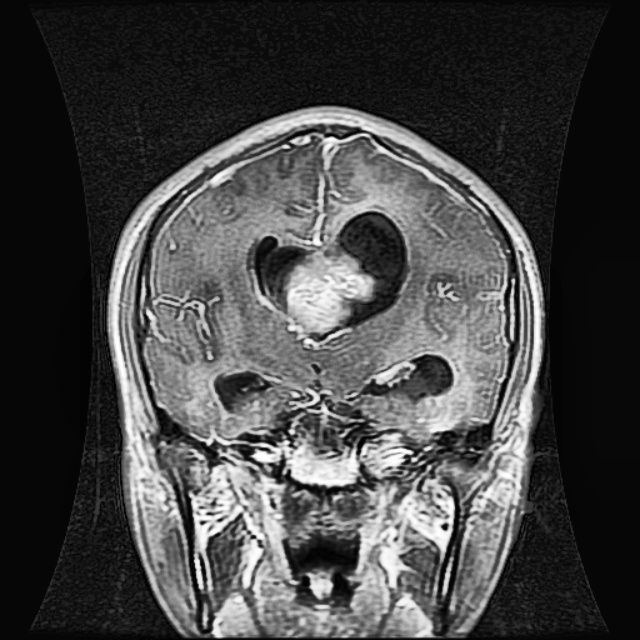Meningioma: (249, 208, 407, 337)
